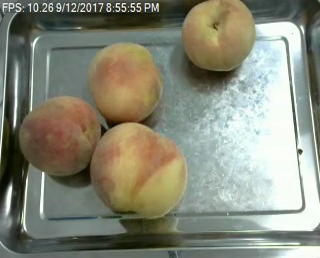Peach: (89, 122, 187, 219), (19, 94, 101, 176), (88, 40, 163, 124), (181, 0, 256, 72)
